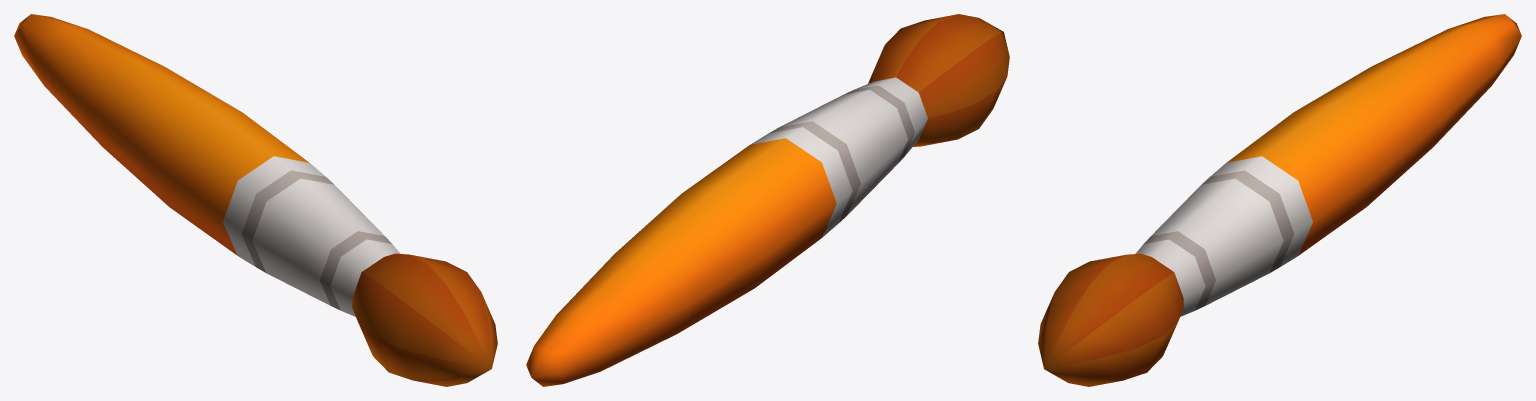
File: brush.fbx
3 renders of one model, left to right at view 1: azimuth 30°, elevation 25°; view 2: azimuth 150°, elevation 25°; view 3: azimuth 330°, elevation 25°, orthographic.
Visible parts, largest first — view 1: brush; view 2: brush; view 3: brush.
Boxes of the visible parts, x1,y1,x2,y2 form: brush: (14,14,497,386); brush: (526,14,1009,386); brush: (1038,14,1521,386).
Size of the model in its own units: 2.05 by 2.05 by 15.21.
